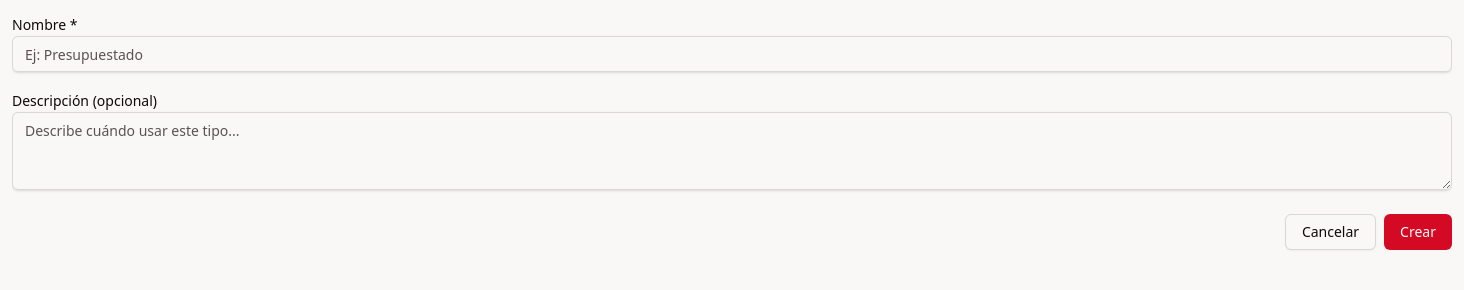
FundingSourceTypeForm › valida nombre requerido antes de guardar
The width and height of the screenshot is (1464, 290).
Click the button "Crear".
click(1418, 232)  # box [1384,214,1452,250]
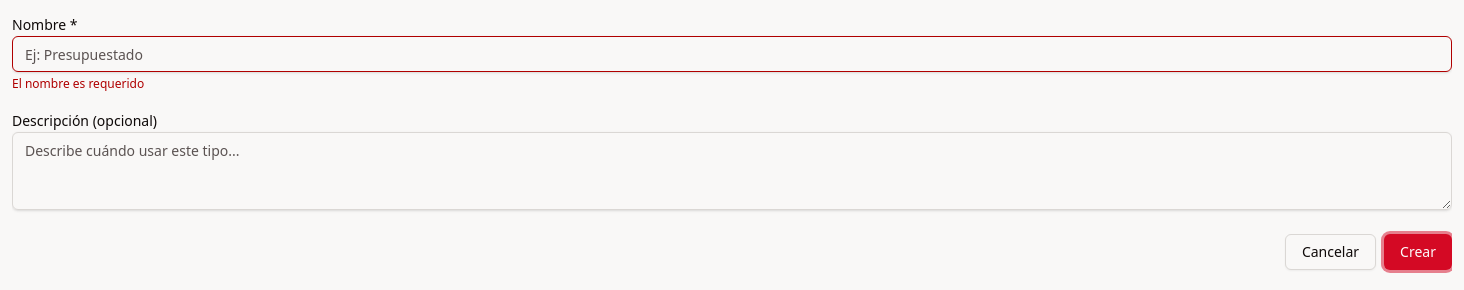
Now the text "El nombre es requerido" is shown, box [12,75,144,92]
